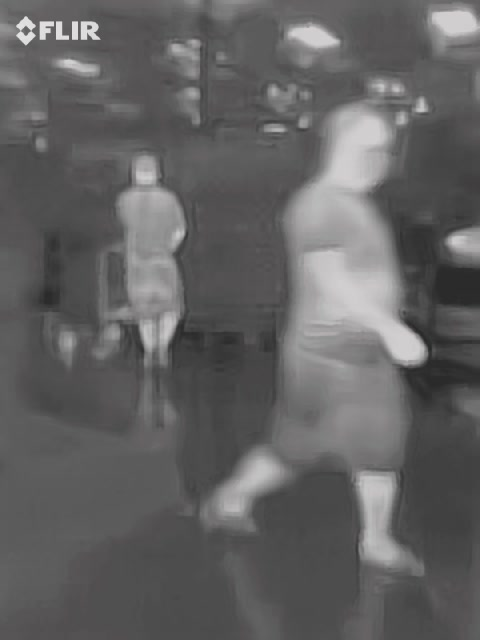head: (320, 101, 396, 189)
